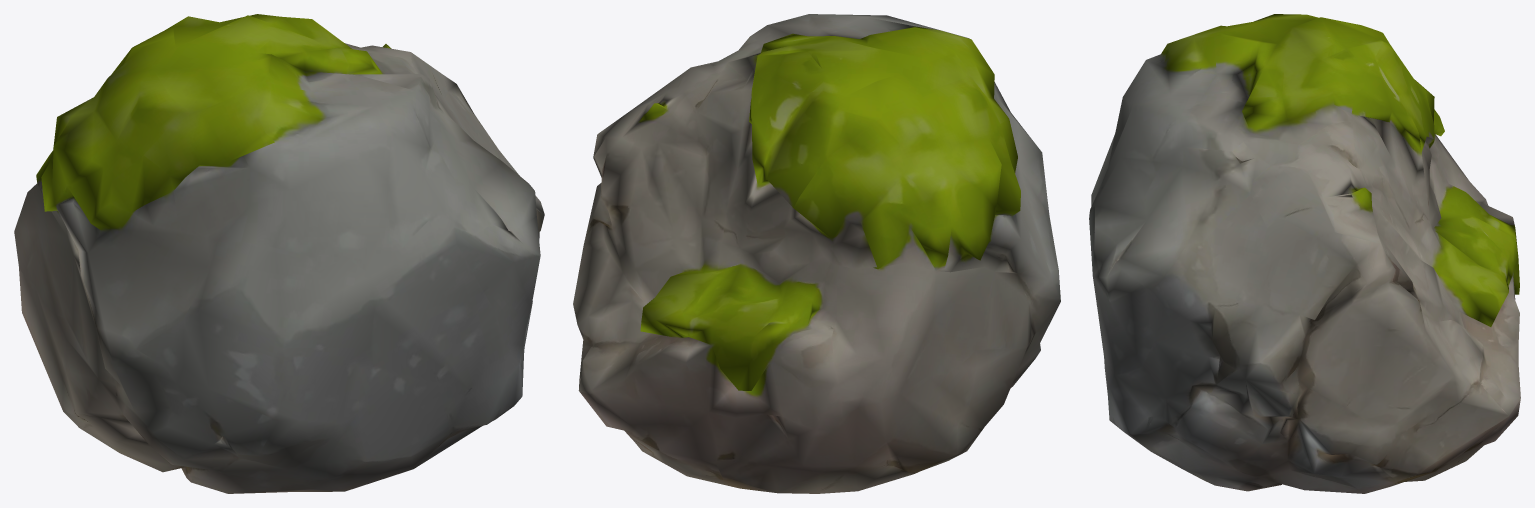
Rendered from env-rock1.glb.
3 views of the same model, side by side, from view 1: azimuth 30°, elevation 25°; view 2: azimuth 150°, elevation 25°; view 3: azimuth 270°, elevation 25° (orthographic). The views are drawn at different scales.
Parts seen in each view (by area): view 1: tripo_node_1ffd7a88-1711-425f-9f1c-0d3fd79996c6; view 2: tripo_node_1ffd7a88-1711-425f-9f1c-0d3fd79996c6; view 3: tripo_node_1ffd7a88-1711-425f-9f1c-0d3fd79996c6.
Boxes of the visible parts, left/top/right/bottom form: tripo_node_1ffd7a88-1711-425f-9f1c-0d3fd79996c6: left=14, top=14, right=544, bottom=493; tripo_node_1ffd7a88-1711-425f-9f1c-0d3fd79996c6: left=573, top=14, right=1060, bottom=493; tripo_node_1ffd7a88-1711-425f-9f1c-0d3fd79996c6: left=1089, top=14, right=1520, bottom=493.
Bounding box in the file's own units: 0.9953 × 0.8633 × 0.9.
Materials: 1 (1 with a texture image).
